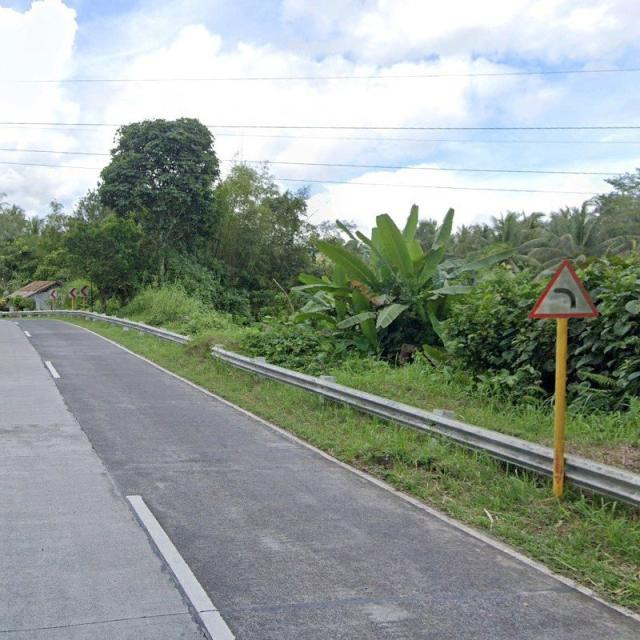warn_left_curve: (528, 258, 599, 318)
